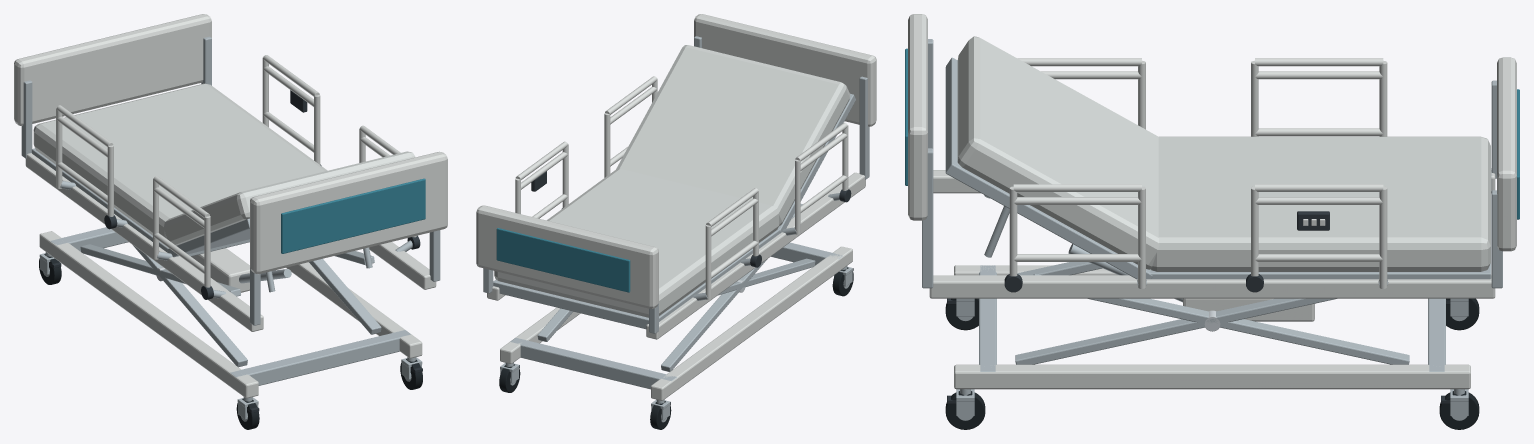
File: city-adjustable-ward-bed.glb
3 renders of one model, left to right at view 1: azimuth 30°, elevation 25°; view 2: azimuth 150°, elevation 25°; view 3: azimuth 270°, elevation 25°, orthographic. The views are drawn at different scales.
Parts seen in each view (by area): view 1: Assembly | Warm clinical shell, Assembly | Plain mattress fabric, Assembly | Brushed support metal, Assembly | Muted blue upholstery, Assembly | Caster and cable rubber, Assembly | Dark service trim; view 2: Assembly | Plain mattress fabric, Assembly | Warm clinical shell, Assembly | Brushed support metal, Assembly | Muted blue upholstery, Assembly | Caster and cable rubber, Assembly | Dark service trim; view 3: Assembly | Plain mattress fabric, Assembly | Warm clinical shell, Assembly | Brushed support metal, Assembly | Caster and cable rubber, Assembly | Dark service trim, Assembly | Muted blue upholstery.
Part boxes in pixels (box(x1,y1,x2,y2)): Assembly | Warm clinical shell: box(14, 14, 447, 398); Assembly | Plain mattress fabric: box(33, 83, 415, 245); Assembly | Brushed support metal: box(21, 36, 440, 421); Assembly | Muted blue upholstery: box(281, 178, 425, 253); Assembly | Caster and cable rubber: box(39, 254, 422, 429); Assembly | Dark service trim: box(49, 90, 422, 412); Assembly | Plain mattress fabric: box(494, 45, 849, 317); Assembly | Warm clinical shell: box(476, 14, 876, 400); Assembly | Brushed support metal: box(483, 36, 869, 422); Assembly | Muted blue upholstery: box(496, 228, 630, 292); Assembly | Caster and cable rubber: box(499, 267, 853, 429); Assembly | Dark service trim: box(519, 171, 853, 404); Assembly | Plain mattress fabric: box(957, 36, 1490, 271); Assembly | Warm clinical shell: box(908, 14, 1516, 389); Assembly | Brushed support metal: box(922, 39, 1502, 420); Assembly | Caster and cable rubber: box(945, 298, 1479, 429); Assembly | Dark service trim: box(947, 211, 1450, 403); Assembly | Muted blue upholstery: box(905, 48, 1519, 219).
Size of the model in its own units: 1.12 by 1.21 by 2.19.
